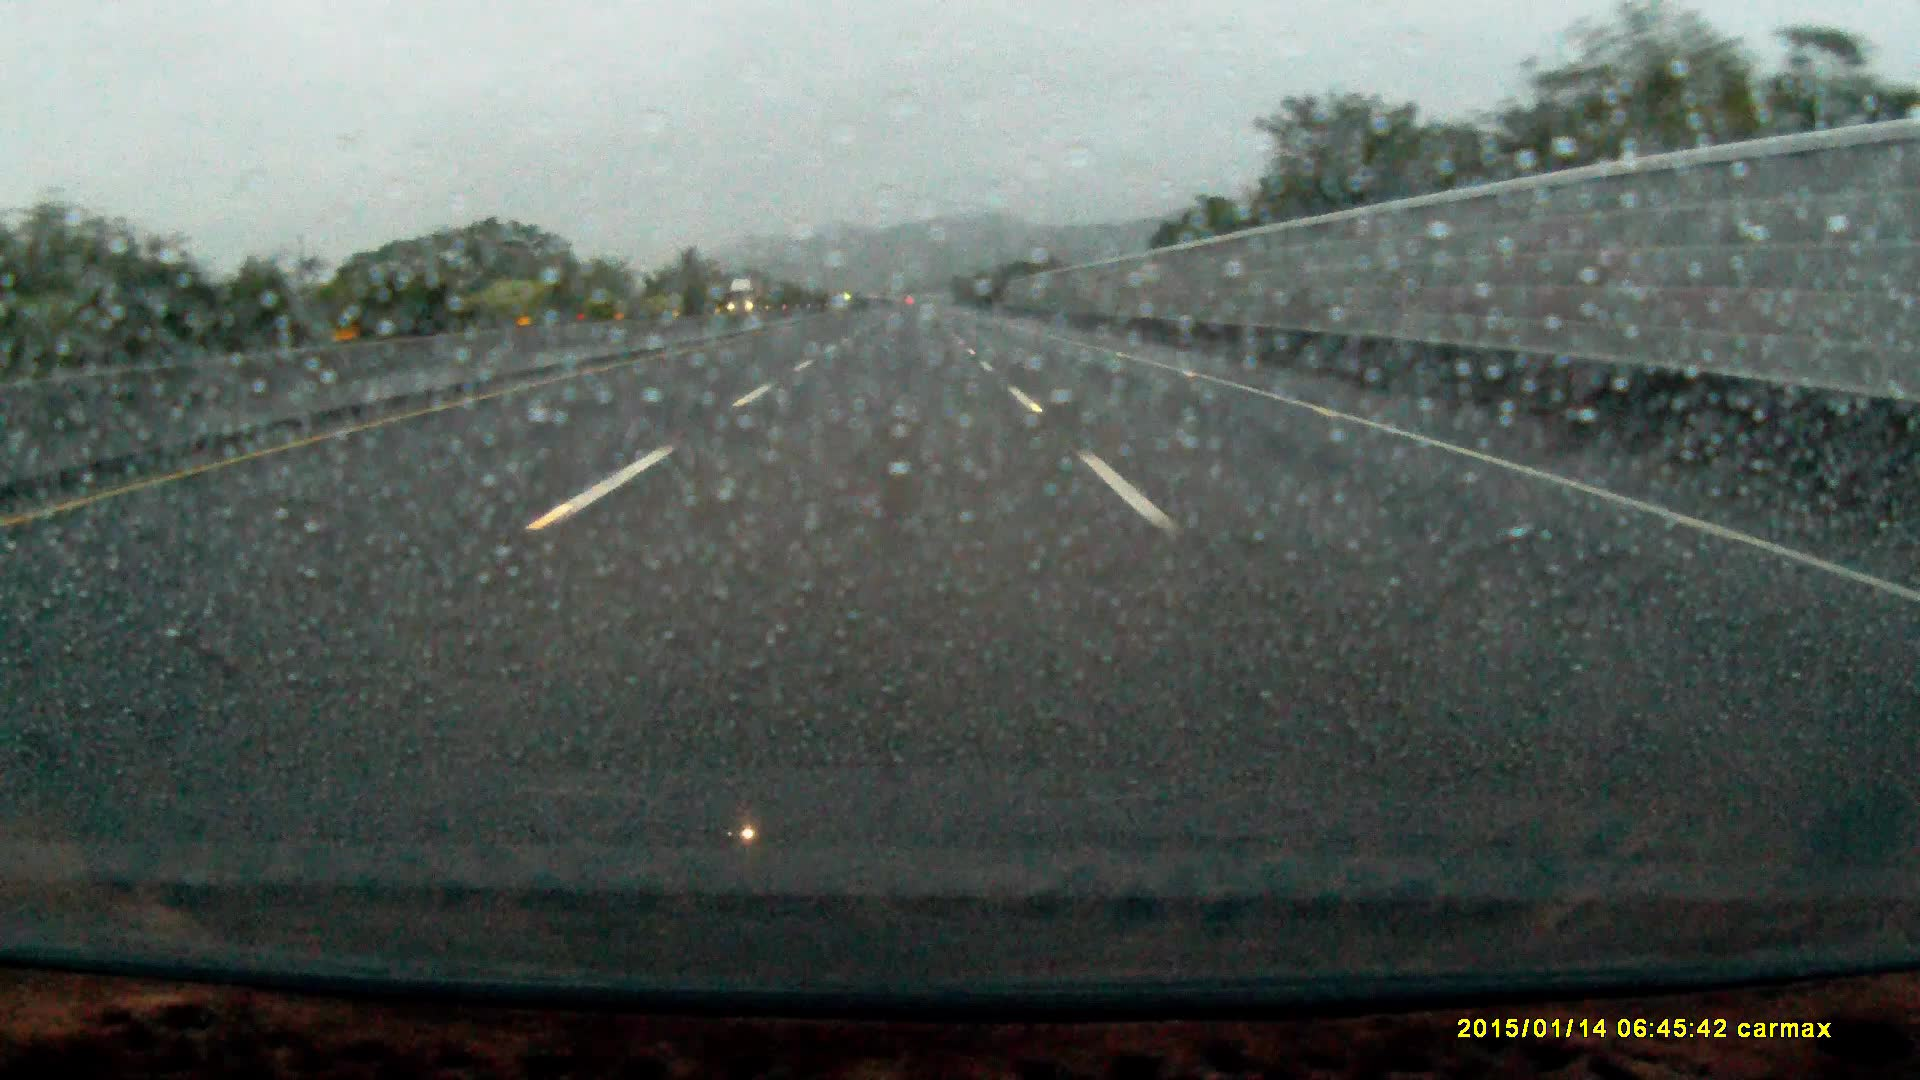vehicle: (727, 280, 765, 315)
